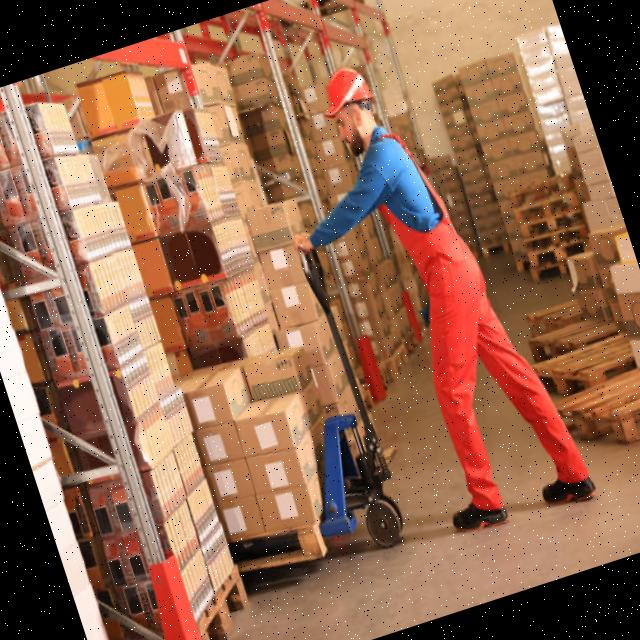Wooden-Pallets: (557, 365, 640, 446), (507, 186, 590, 237), (514, 219, 589, 257), (508, 172, 574, 208)
